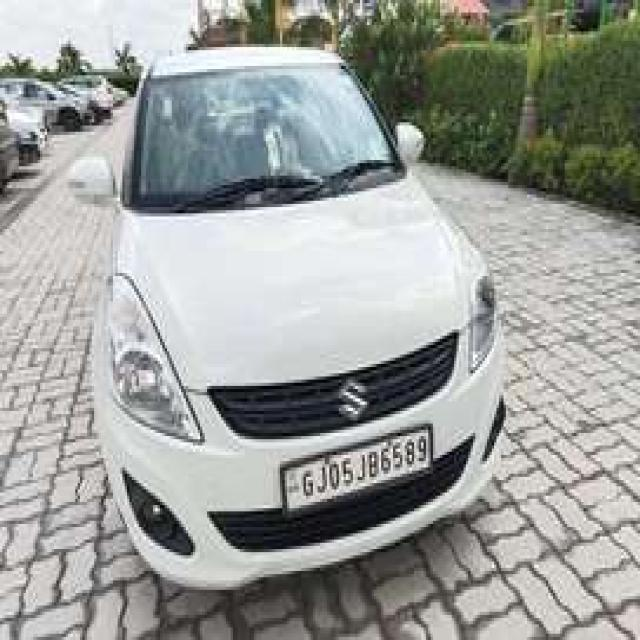plate: (279, 420, 434, 525)
